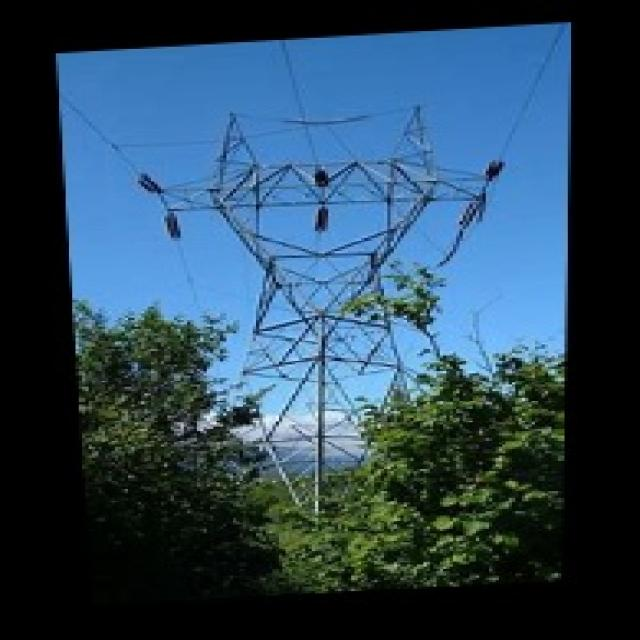utility poles: (336, 270, 519, 398), (160, 309, 298, 461)
